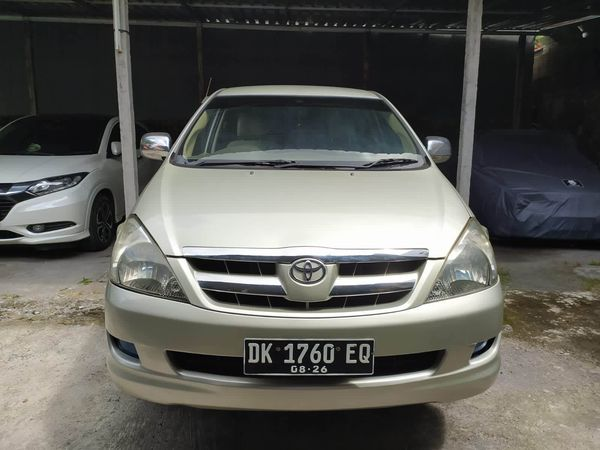plate: (241, 332, 377, 377)
